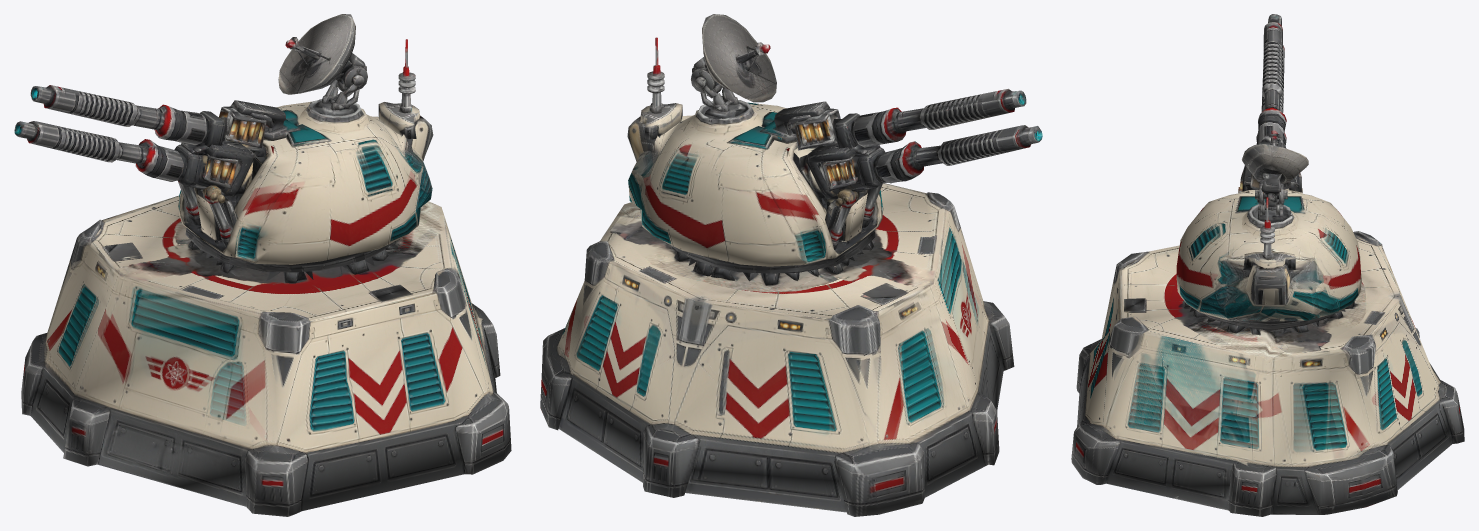
The model's file is fort.fbx.
3 views of the same model, side by side, from view 1: azimuth 30°, elevation 25°; view 2: azimuth 150°, elevation 25°; view 3: azimuth 270°, elevation 25° (orthographic). The views are drawn at different scales.
Visible parts, largest first — view 1: Mesh_0; view 2: Mesh_0; view 3: Mesh_0.
Part boxes in pixels (x1=…): Mesh_0: x1=14, y1=14, x2=511, y2=516; Mesh_0: x1=540, y1=14, x2=1042, y2=516; Mesh_0: x1=1071, y1=14, x2=1464, y2=516.
Bounding box in the file's own units: 95.41 × 73.88 × 82.18.
Materials: 1 (1 with a texture image).
